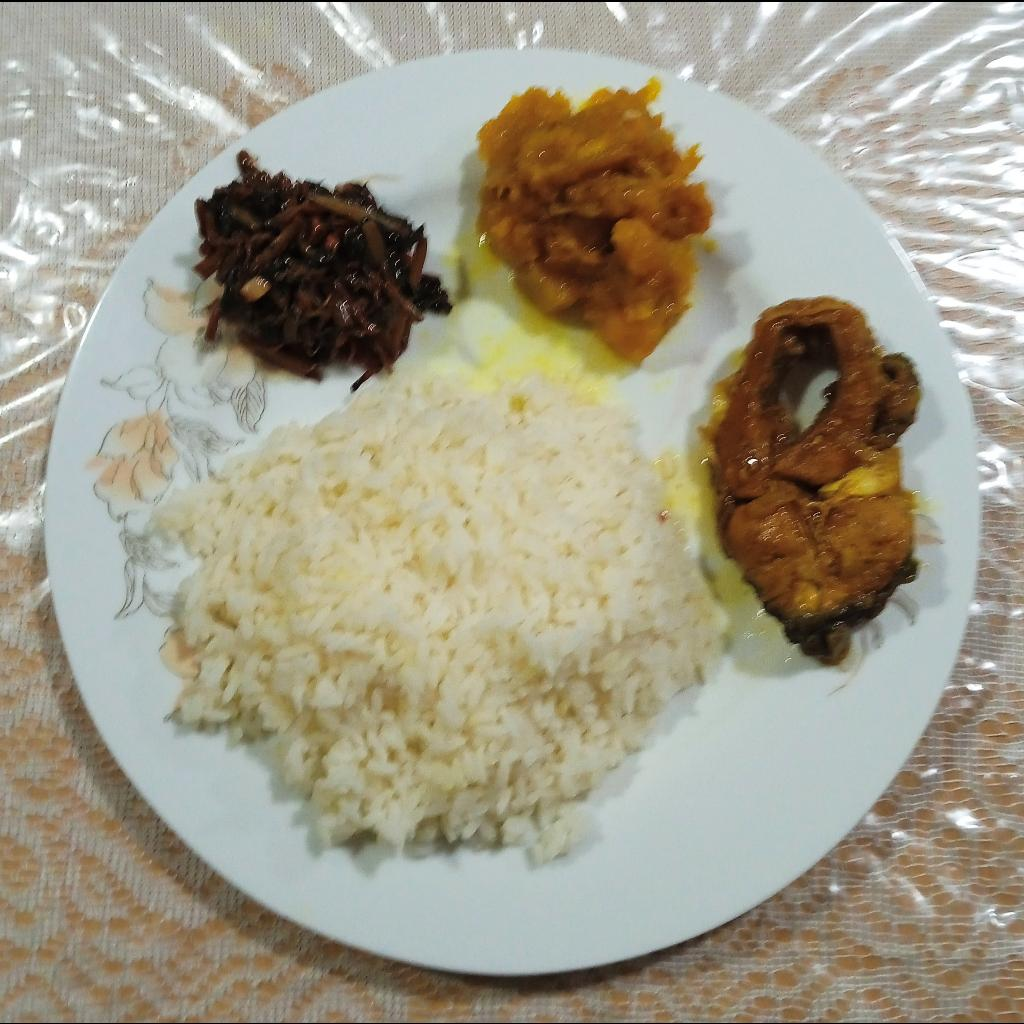fish: (707, 293, 923, 667)
kumra-vaji: (472, 74, 716, 363)
lal-shak: (191, 144, 447, 384)
rice: (150, 343, 732, 868)
